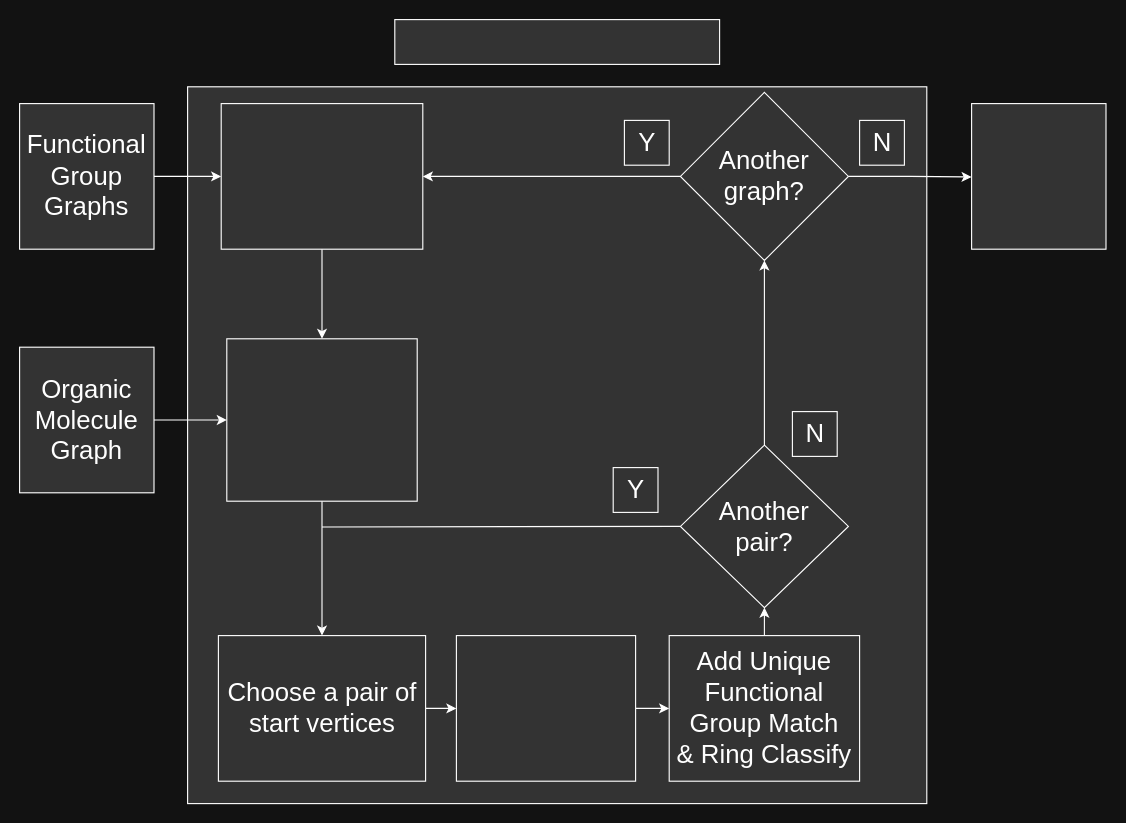
The diagram is 1126 pixels wide and 823 high, and some of its shapes have lost their labels. Here are the shapes that lost their labels. From the top down, the box of each, then its label:
(394, 18, 720, 64): Functional Group Identifier
(220, 102, 423, 249): Select Graph
(970, 102, 1106, 249): Functional Group Matches
(226, 338, 417, 501): Determine all possible start vertices
(455, 634, 636, 781): DFS
